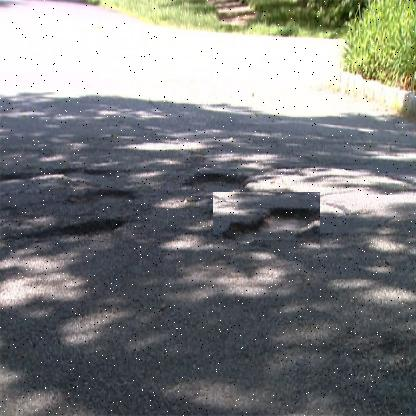damage: (15, 208, 130, 254)
pothole: (213, 193, 321, 250), (179, 157, 256, 205)
